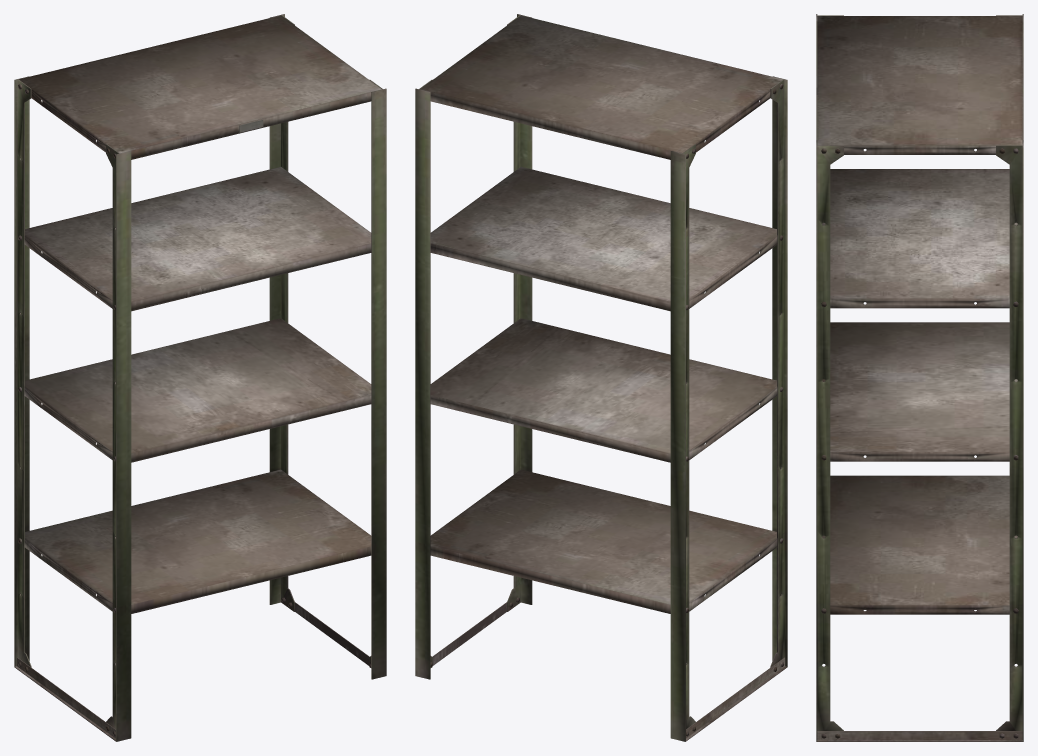
The model's file is rack.glb.
3 renders of one model, left to right at view 1: azimuth 30°, elevation 25°; view 2: azimuth 150°, elevation 25°; view 3: azimuth 270°, elevation 25°, orthographic.
Visible parts, largest first — view 1: worn_metal_rack; view 2: worn_metal_rack; view 3: worn_metal_rack.
Part boxes in pixels (bbox=[...]): worn_metal_rack: bbox=[14, 14, 386, 741]; worn_metal_rack: bbox=[415, 14, 787, 741]; worn_metal_rack: bbox=[816, 14, 1023, 741].
Bounding box in the file's own units: 0.9154 × 1.9 × 0.6.
Materials: 1 (1 with a texture image).
